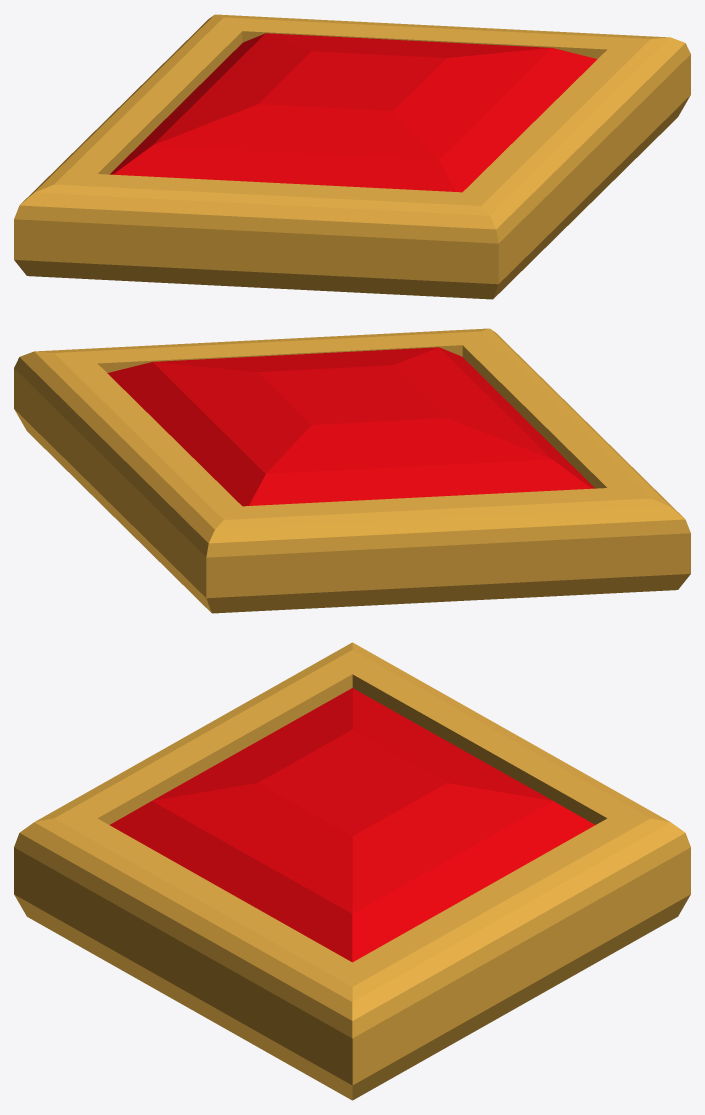
File: armbandgemVR.fbx
3 renders of one model, top to bottom at view 1: azimuth 30°, elevation 25°; view 2: azimuth 150°, elevation 25°; view 3: azimuth 270°, elevation 25°, orthographic. The views are drawn at different scales.
Visible parts, largest first — view 1: Cylinder.005; view 2: Cylinder.005; view 3: Cylinder.005.
Boxes of the visible parts, x1,y1,x2,y2 form: Cylinder.005: [14, 14, 690, 299]; Cylinder.005: [14, 328, 690, 613]; Cylinder.005: [14, 642, 690, 1100].
Bounding box in the file's own units: 393 × 66.47 × 294.
